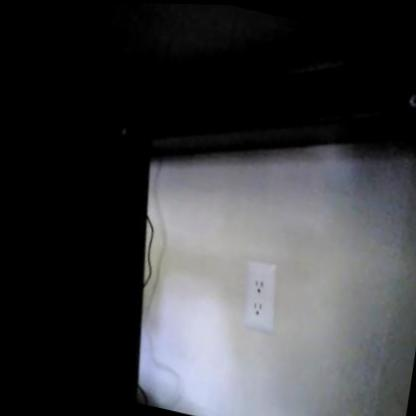OUTLET: (235, 258, 284, 332)
